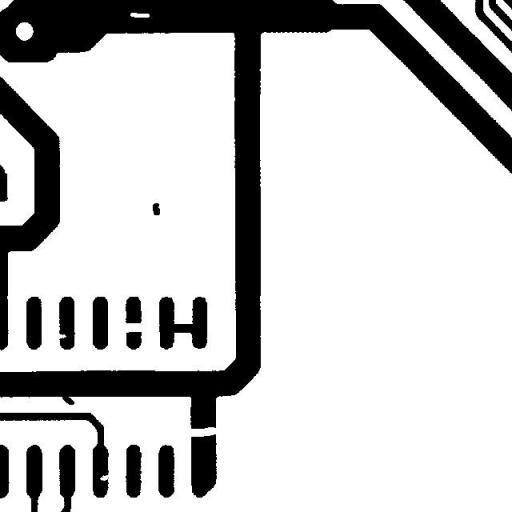copper: (145, 196, 167, 222)
mousebite: (92, 467, 118, 488), (48, 326, 74, 346)
open: (178, 419, 224, 444), (114, 315, 152, 340)
pin-hole: (122, 5, 157, 25)
short: (159, 316, 206, 342)
spur: (52, 386, 82, 412)
